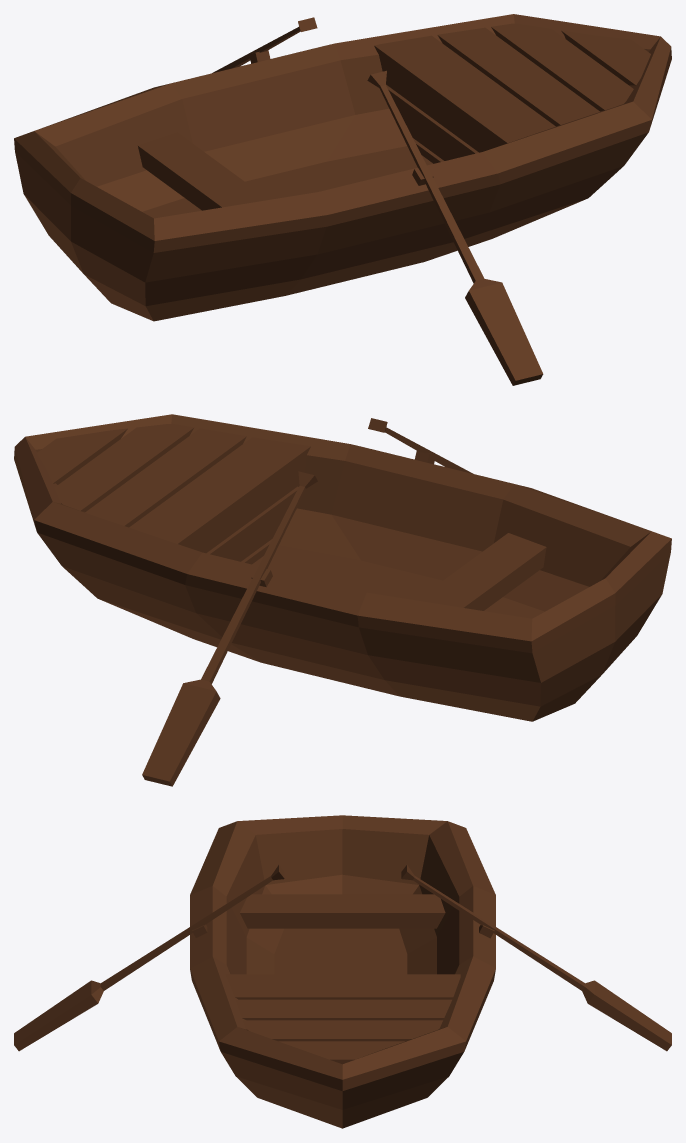
Rendered from row boat.fbx.
The picture shows the model from 3 angles, top to bottom: view 1: azimuth 30°, elevation 25°; view 2: azimuth 150°, elevation 25°; view 3: azimuth 270°, elevation 25°; orthographic projection. The views are drawn at different scales.
Parts seen in each view (by area): view 1: Cube.001; view 2: Cube.001; view 3: Cube.001.
Part boxes in pixels (box(x1,y1,x2,y2)): Cube.001: box(14, 14, 671, 385); Cube.001: box(14, 414, 671, 786); Cube.001: box(14, 815, 671, 1128).
Size of the model in its own units: 241 by 77.31 by 260.
